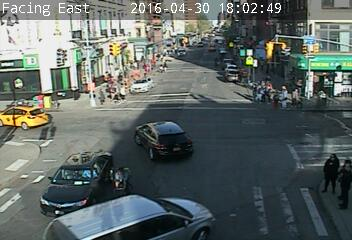neg: (100, 163, 127, 198), (153, 106, 177, 137), (48, 192, 71, 222), (292, 19, 314, 48), (214, 167, 235, 195), (256, 161, 277, 188), (196, 102, 217, 129), (236, 16, 256, 43), (261, 122, 279, 146), (90, 31, 107, 54), (77, 129, 94, 151), (168, 172, 184, 194), (183, 74, 199, 96), (58, 154, 74, 175), (30, 87, 45, 107), (18, 126, 33, 146), (33, 115, 48, 135), (271, 14, 286, 34), (203, 53, 216, 71), (53, 49, 66, 66), (124, 20, 136, 37), (167, 23, 179, 39), (195, 23, 207, 39), (216, 32, 227, 48), (38, 15, 49, 31), (77, 7, 87, 21), (18, 151, 28, 164)
pos: (310, 146, 351, 201), (238, 69, 275, 120), (326, 159, 351, 210), (285, 83, 307, 112), (273, 81, 292, 106), (269, 90, 286, 113), (113, 82, 130, 104), (93, 85, 107, 105), (156, 58, 169, 76)
